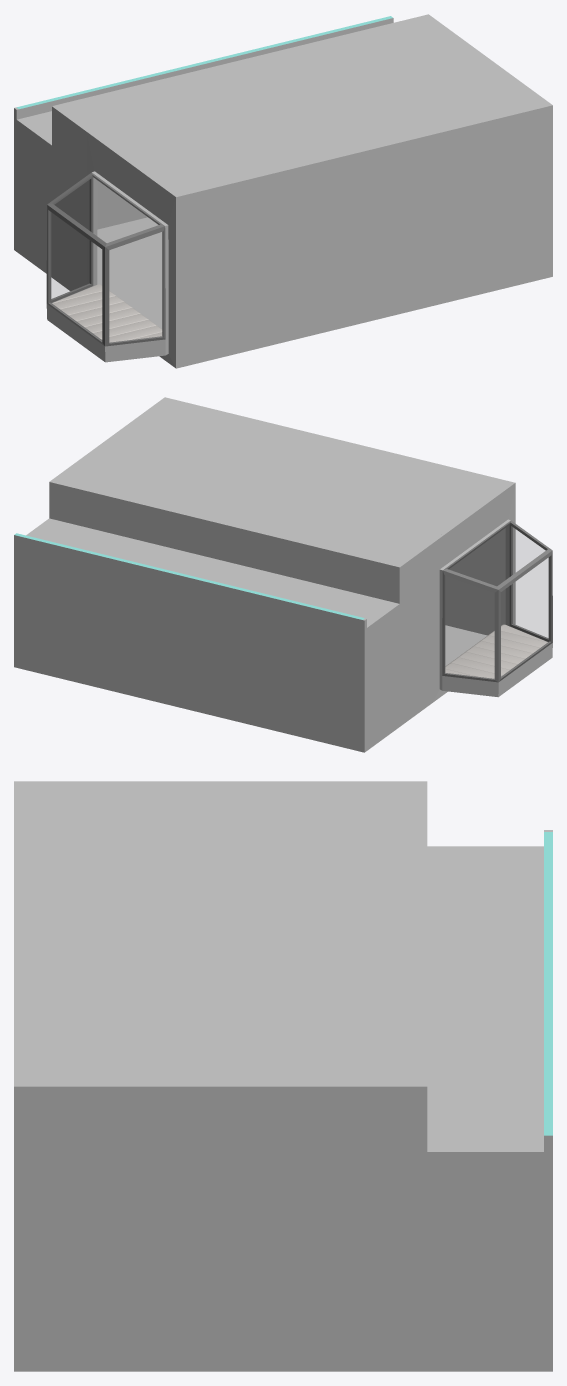
Rendered from Room N w.fbx.
3 renders of one model, top to bottom at view 1: azimuth 30°, elevation 25°; view 2: azimuth 150°, elevation 25°; view 3: azimuth 270°, elevation 25°, orthographic. The views are drawn at different scales.
Visible parts, largest first — view 1: wall 3, ceiling 1, wall 4, wall 1, flooring 1, window matress 1; view 2: wall 1, ceiling 1, wall 4, wall 3, window matress 1, flooring 1; view 3: wall 2, ceiling 1, wall 1, wall 4.
Part boxes in pixels (<box>): wall 3: <box>178,105,552,367</box>; ceiling 1: <box>54,14,552,196</box>; wall 4: <box>14,106,178,368</box>; wall 1: <box>17,16,393,229</box>; flooring 1: <box>97,217,162,328</box>; window matress 1: <box>52,284,162,342</box>; wall 1: <box>14,482,397,751</box>; ceiling 1: <box>49,397,512,566</box>; wall 4: <box>362,482,552,752</box>; wall 3: <box>445,528,505,635</box>; window matress 1: <box>445,624,547,678</box>; flooring 1: <box>445,625,487,666</box>; wall 2: <box>14,1086,552,1371</box>; ceiling 1: <box>14,783,427,1086</box>; wall 1: <box>427,832,552,1151</box>; wall 4: <box>14,781,552,848</box>.
Bounding box in the file's own units: 6 × 9.25 × 3.5.
